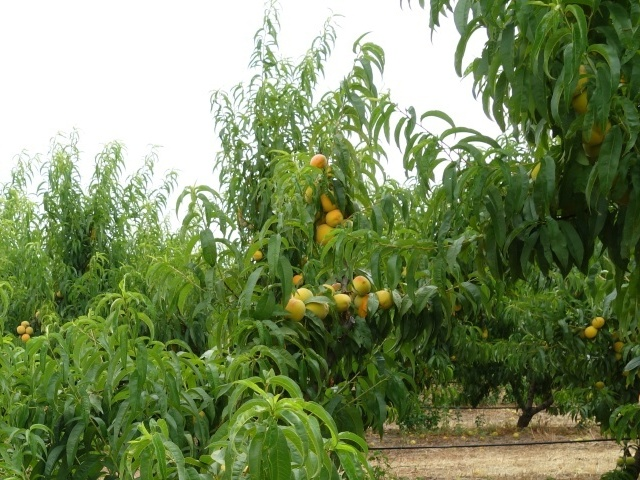peach: (282, 295, 310, 325), (317, 188, 344, 214), (348, 272, 374, 299), (322, 204, 350, 229), (370, 287, 394, 316), (290, 282, 317, 307), (305, 297, 332, 321), (306, 151, 333, 175), (314, 222, 339, 247), (328, 290, 354, 314)
